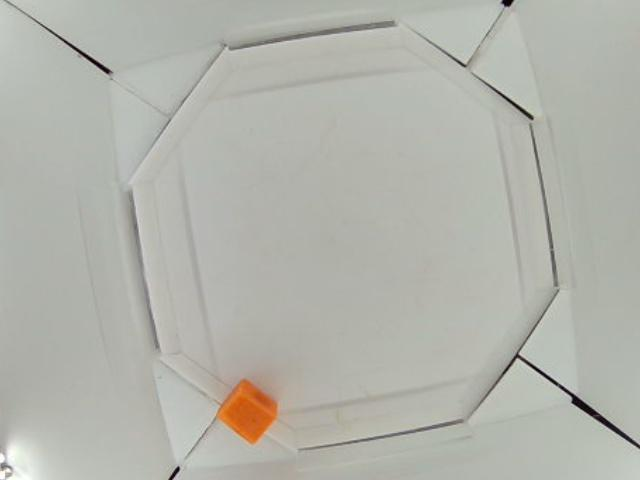Carrot: (220, 378, 280, 446)
